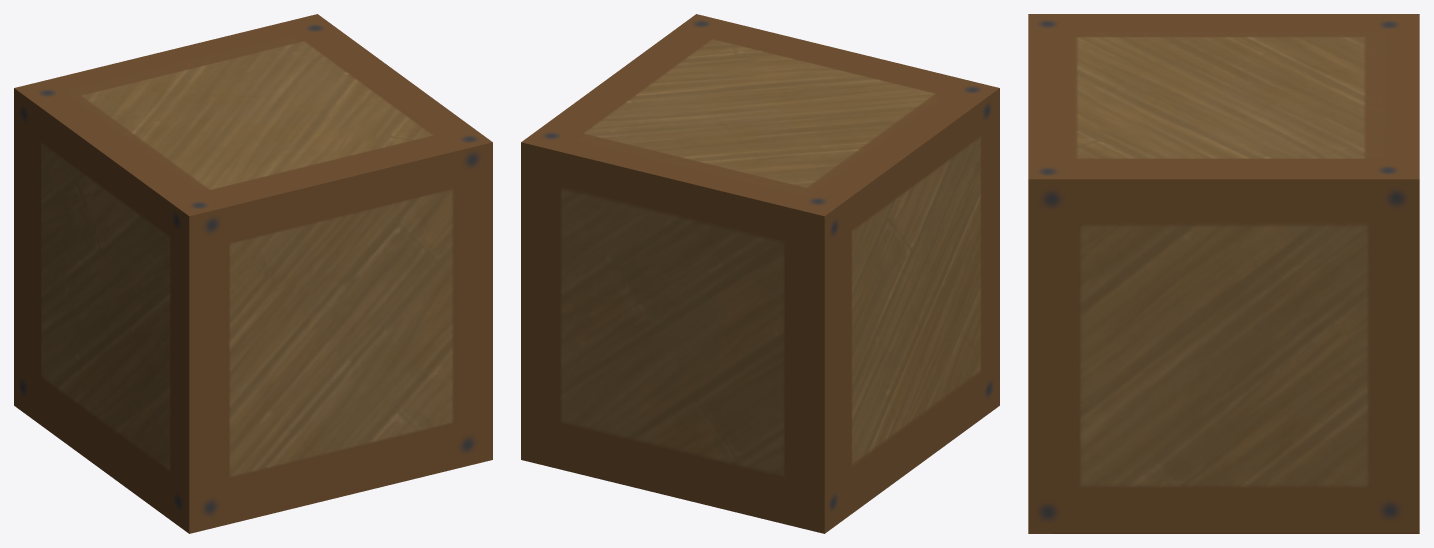
3 views of the same model, side by side, from view 1: azimuth 30°, elevation 25°; view 2: azimuth 150°, elevation 25°; view 3: azimuth 270°, elevation 25° (orthographic). The views are drawn at different scales.
Parts seen in each view (by area): view 1: polySurface1, Intact_Box, polySurface4, polySurface5, polySurface3; view 2: polySurface3, Intact_Box, polySurface4, polySurface1, polySurface5; view 3: polySurface5, polySurface3, polySurface1, Intact_Box, polySurface4.
Part boxes in pixels (x1,y1,x2,y2): polySurface1: (72, 114, 410, 533); Intact_Box: (14, 88, 492, 533); polySurface4: (14, 72, 199, 447); polySurface5: (201, 76, 492, 459); polySurface3: (81, 14, 402, 114); polySurface3: (521, 80, 784, 506); Intact_Box: (521, 88, 999, 533); polySurface4: (714, 135, 891, 533); polySurface1: (785, 45, 999, 455); polySurface5: (606, 14, 821, 134); polySurface5: (1028, 75, 1255, 533); polySurface3: (1229, 50, 1419, 533); polySurface1: (1028, 14, 1270, 110); Intact_Box: (1028, 183, 1419, 533); polySurface4: (1255, 14, 1419, 75).
Size of the model in its own units: 1 by 1 by 1.
